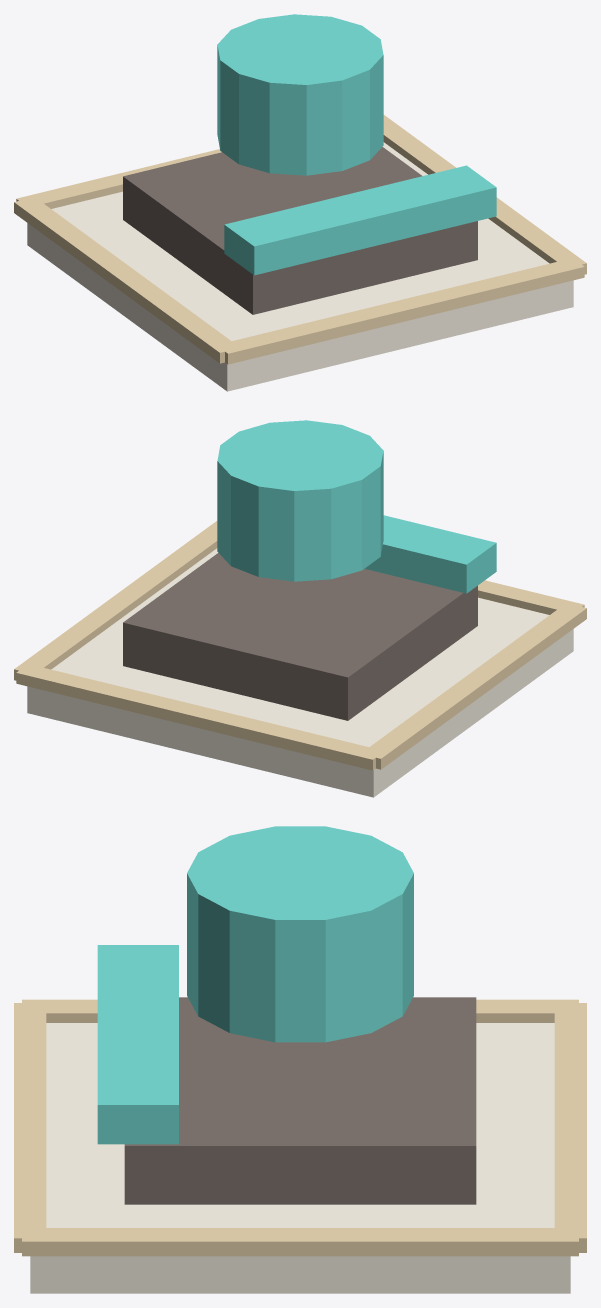
Rendered from city.metro_entrance.glb.
The picture shows the model from 3 angles, top to bottom: view 1: azimuth 30°, elevation 25°; view 2: azimuth 150°, elevation 25°; view 3: azimuth 270°, elevation 25°; orthographic projection. The views are drawn at different scales.
Visible parts, largest first — view 1: city.metro_entrance; view 2: city.metro_entrance; view 3: city.metro_entrance.
Boxes of the visible parts, x1,y1,x2,y2 form: city.metro_entrance: (14,14,586,391); city.metro_entrance: (14,420,586,797); city.metro_entrance: (14,826,586,1293).
Bounding box in the file's own units: 2.12 × 1.25 × 2.12.
